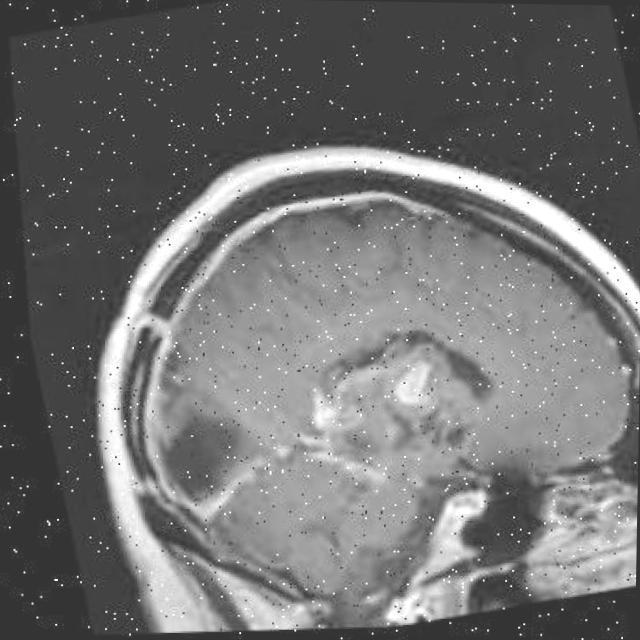EMCI: (132, 383, 297, 568)
